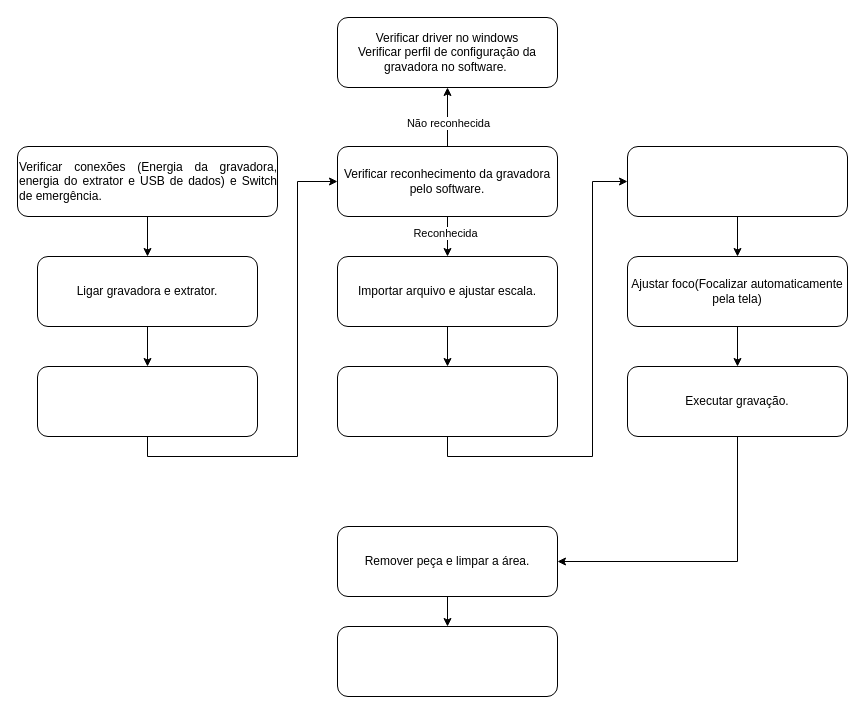
Some shapes in this 865 by 714 pixel diagram are drawn without their labels. Each missing label, with the box of its shape:
Configurar parâmetros do laser.: (336, 366, 558, 436)
Desligar a gravadora, desligar o extrator: (336, 626, 558, 696)
Inicializar software(Lightburn/EZCAD): (36, 366, 258, 436)
Posicionar e fixar a peça na mesa de acordo com o frame do arquivo importado.: (626, 146, 848, 216)
